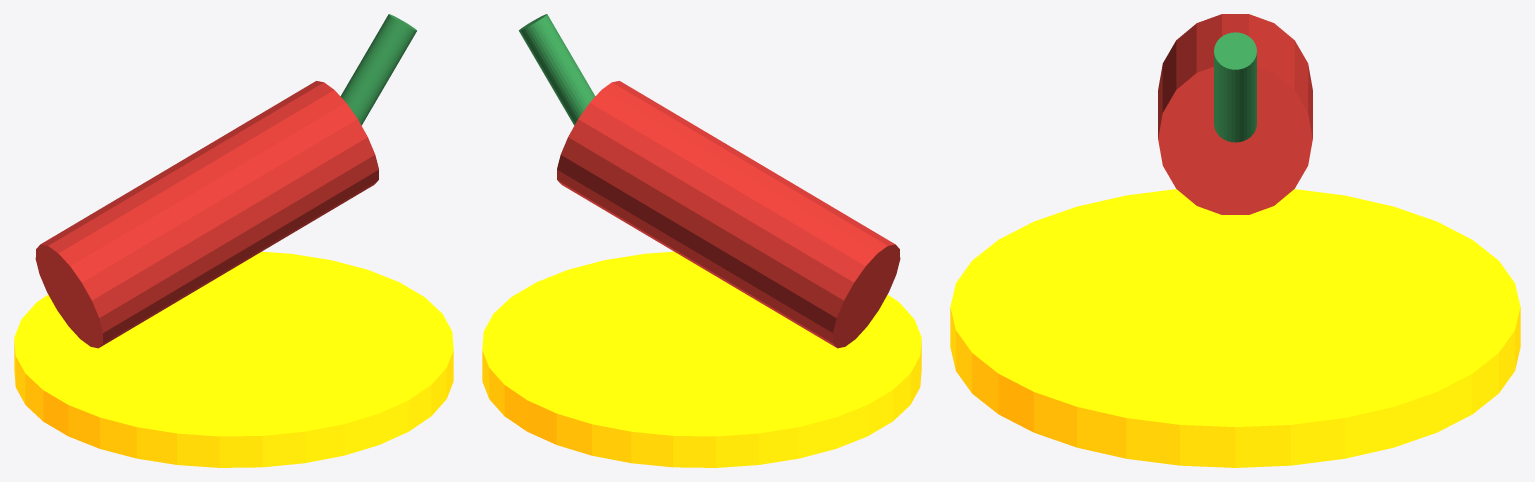
File: spanish_chili_pepper.glb
The picture shows the model from 3 angles, left to right: view 1: azimuth 30°, elevation 25°; view 2: azimuth 150°, elevation 25°; view 3: azimuth 270°, elevation 25°; orthographic projection. The views are drawn at different scales.
Parts seen in each view (by area): view 1: 11_16_Popular_Spanish_Chili_Pepper_ROOT_base, 11_16_Popular_Spanish_Chili_Pepper_part_01, 11_16_Popular_Spanish_Chili_Pepper_part_02; view 2: 11_16_Popular_Spanish_Chili_Pepper_ROOT_base, 11_16_Popular_Spanish_Chili_Pepper_part_01, 11_16_Popular_Spanish_Chili_Pepper_part_02; view 3: 11_16_Popular_Spanish_Chili_Pepper_ROOT_base, 11_16_Popular_Spanish_Chili_Pepper_part_01, 11_16_Popular_Spanish_Chili_Pepper_part_02.
Boxes of the visible parts, x1=… form: 11_16_Popular_Spanish_Chili_Pepper_ROOT_base: x1=14, y1=251, x2=453, y2=467; 11_16_Popular_Spanish_Chili_Pepper_part_01: x1=35, y1=81, x2=378, y2=348; 11_16_Popular_Spanish_Chili_Pepper_part_02: x1=340, y1=14, x2=416, y2=125; 11_16_Popular_Spanish_Chili_Pepper_ROOT_base: x1=482, y1=251, x2=921, y2=467; 11_16_Popular_Spanish_Chili_Pepper_part_01: x1=557, y1=81, x2=900, y2=348; 11_16_Popular_Spanish_Chili_Pepper_part_02: x1=519, y1=14, x2=595, y2=125; 11_16_Popular_Spanish_Chili_Pepper_ROOT_base: x1=950, y1=189, x2=1520, y2=467; 11_16_Popular_Spanish_Chili_Pepper_part_01: x1=1158, y1=14, x2=1312, y2=214; 11_16_Popular_Spanish_Chili_Pepper_part_02: x1=1214, y1=32, x2=1256, y2=142.
Bounding box in the file's own units: 0.76 × 0.6097 × 0.76.
